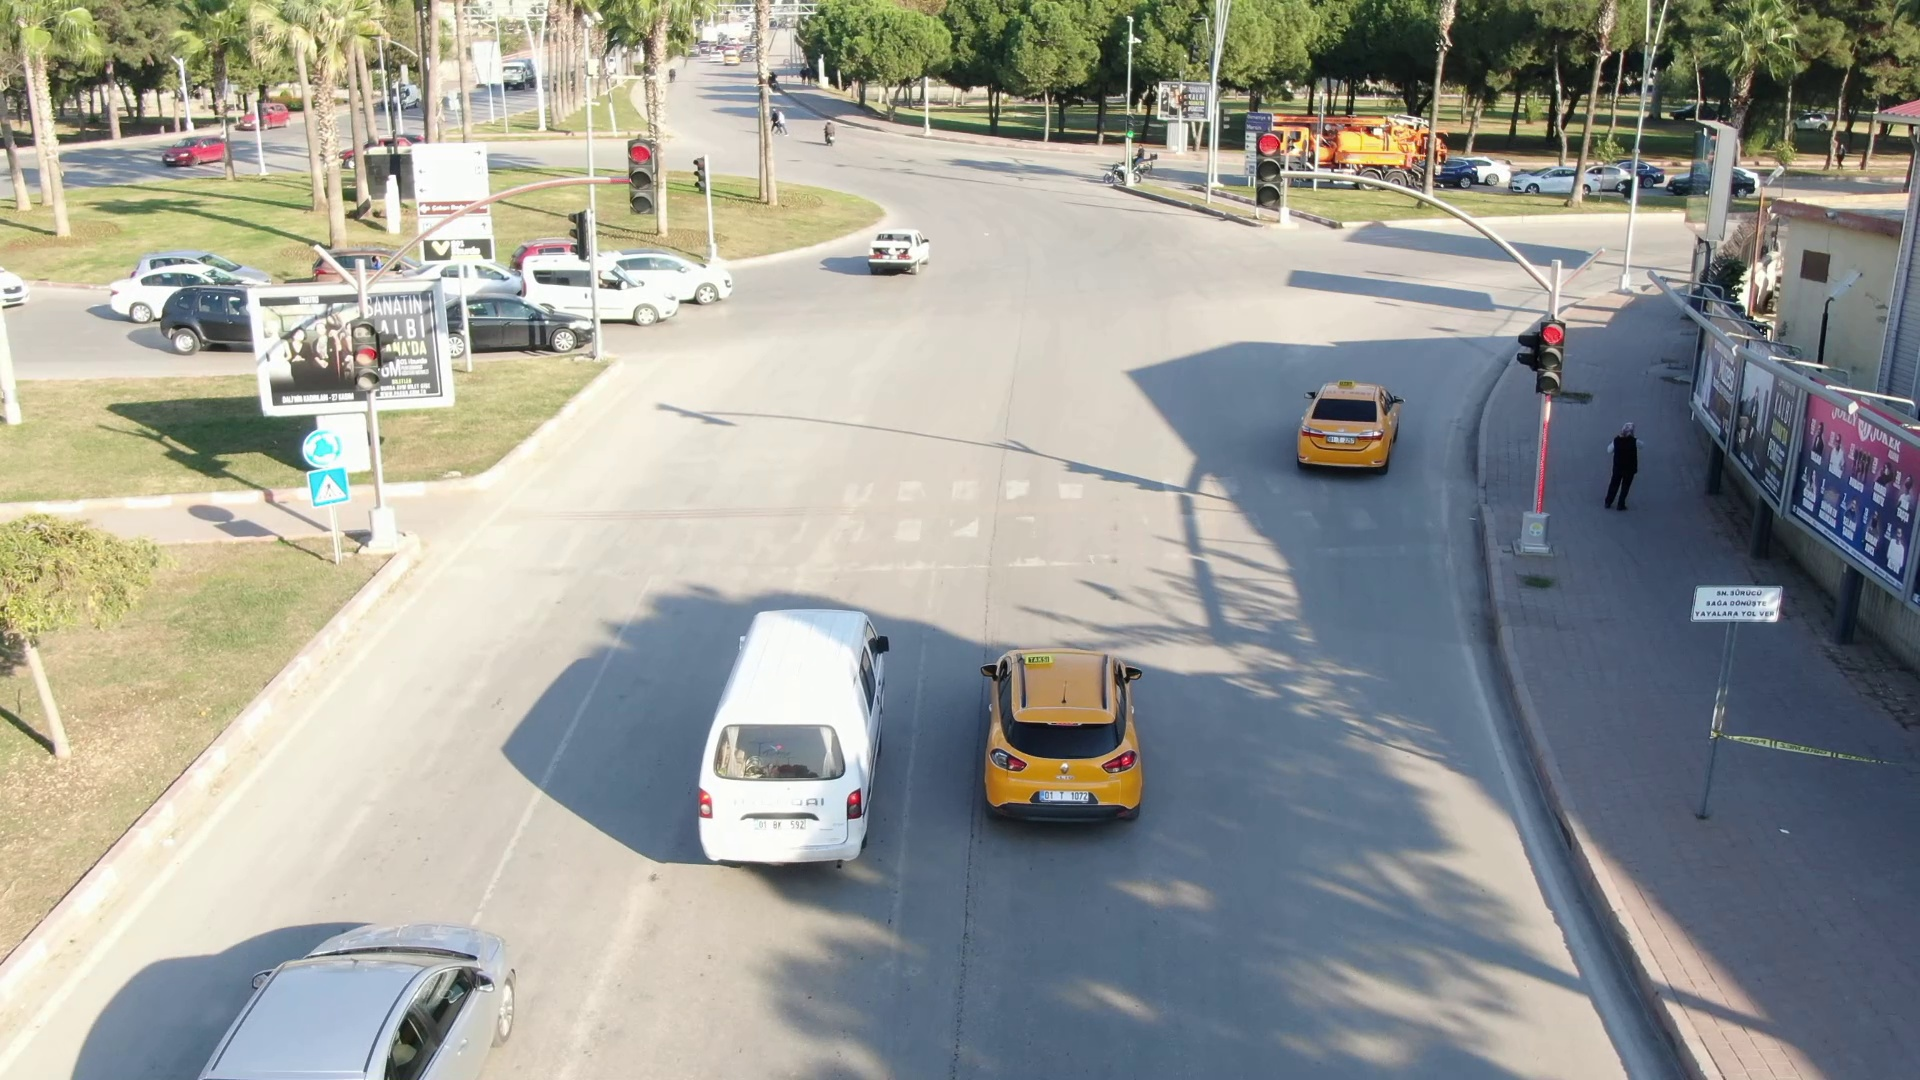car: (159, 912, 543, 1078), (683, 602, 913, 866), (965, 635, 1161, 829), (1284, 372, 1418, 482), (506, 245, 676, 321), (447, 294, 602, 345), (604, 245, 735, 306), (872, 217, 939, 288)
person: (1594, 417, 1643, 515)
